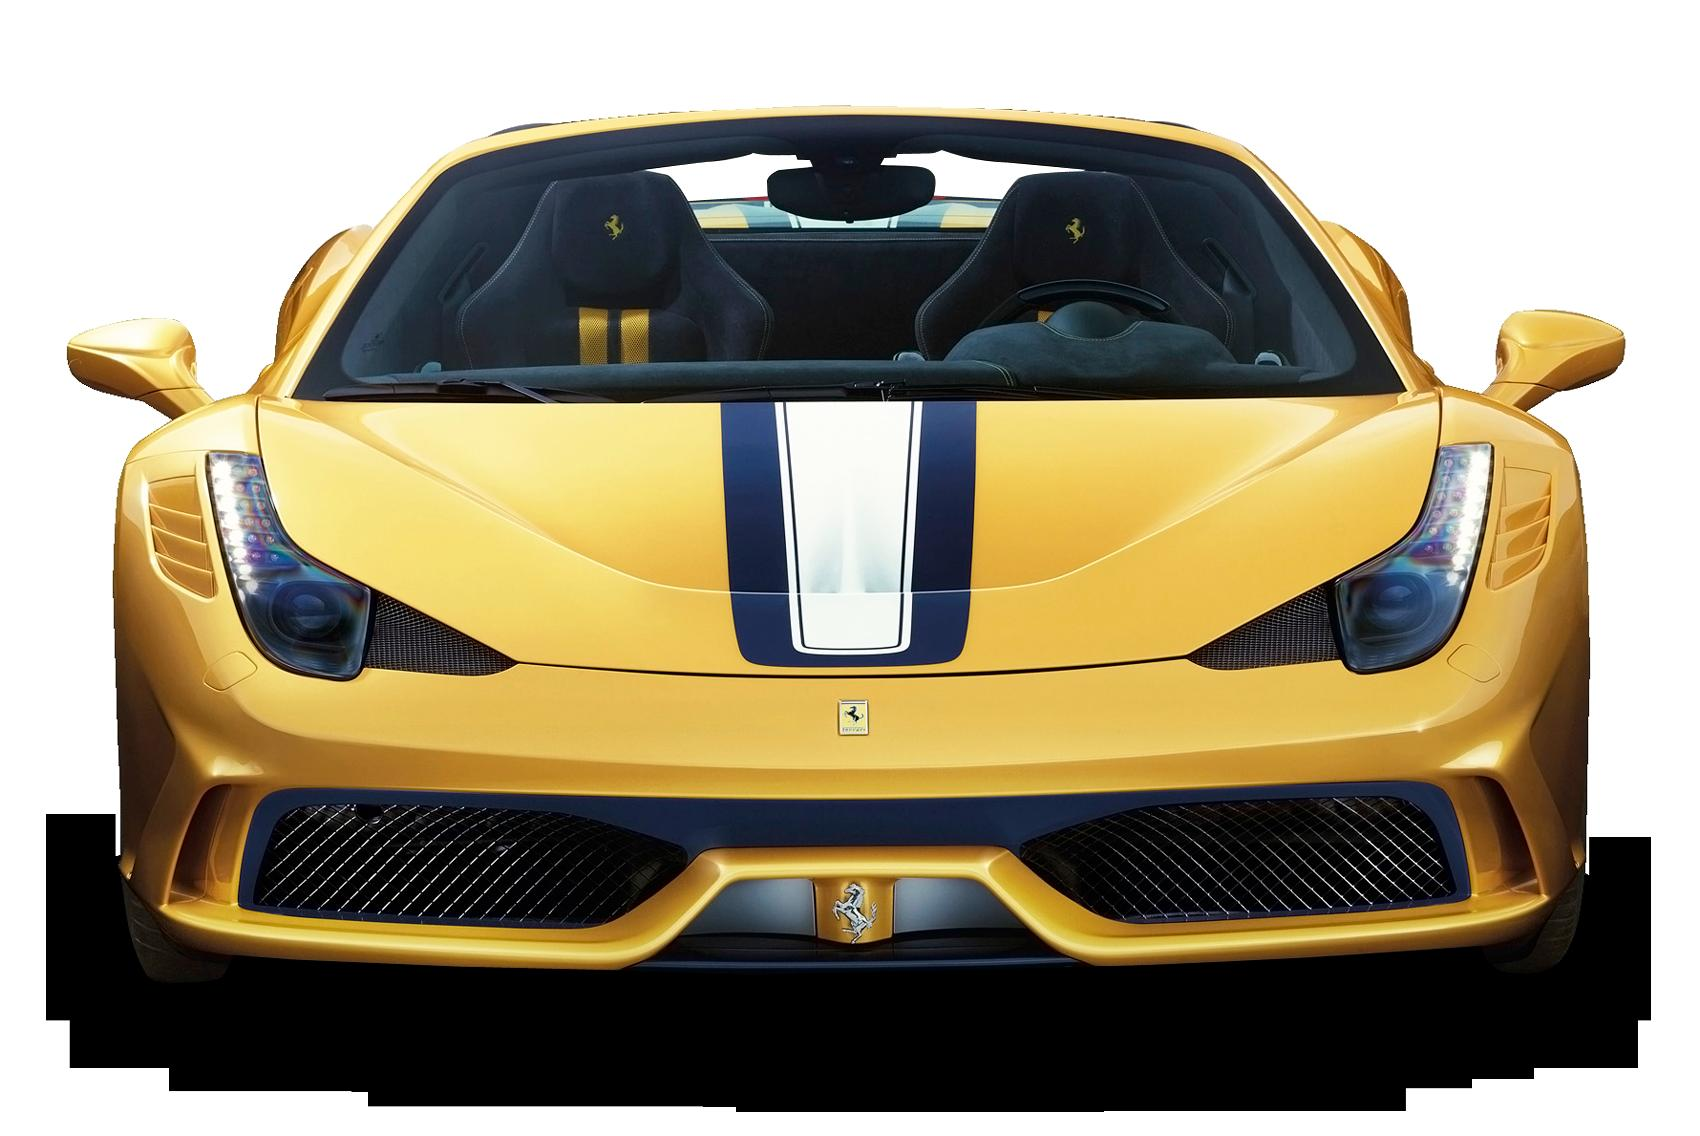small: (67, 106, 1627, 983)
